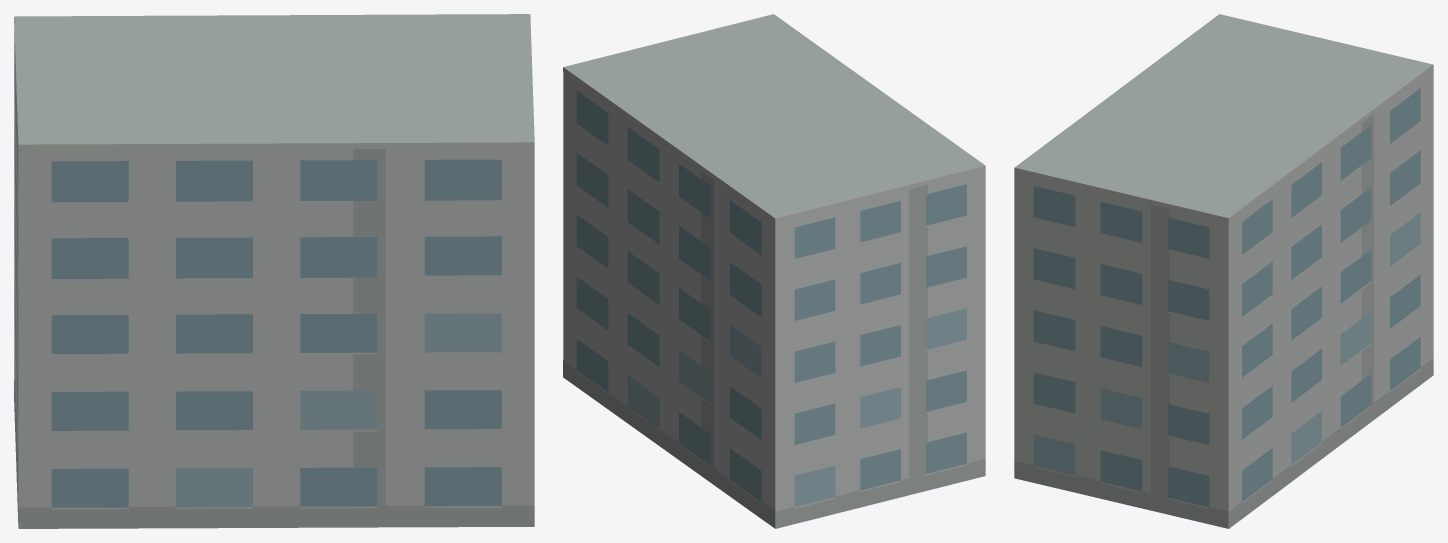
Rendered from survey-upis-32886243.glb.
3 views of the same model, side by side, from view 1: azimuth 30°, elevation 25°; view 2: azimuth 150°, elevation 25°; view 3: azimuth 270°, elevation 25° (orthographic). The views are drawn at different scales.
Visible parts, largest first — view 1: survey-upis-32886243.tmp; view 2: survey-upis-32886243.tmp; view 3: survey-upis-32886243.tmp.
Boxes of the visible parts, <box> form: survey-upis-32886243.tmp: <box>14,14,534,528</box>; survey-upis-32886243.tmp: <box>563,14,985,528</box>; survey-upis-32886243.tmp: <box>1014,14,1433,528</box>.
Bounding box in the file's own units: 22.28 × 15.8 × 19.32.
